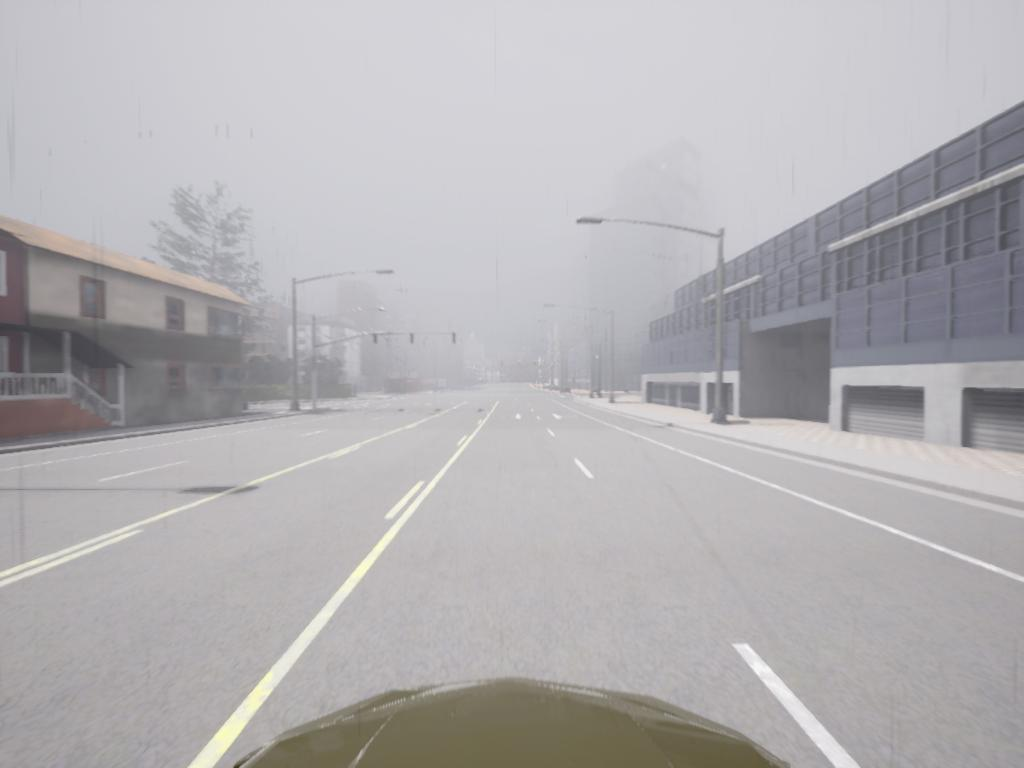traffic_light: (374, 335, 380, 347), (410, 334, 416, 346), (453, 333, 457, 346), (518, 360, 523, 368), (534, 361, 539, 369), (502, 360, 504, 367)
